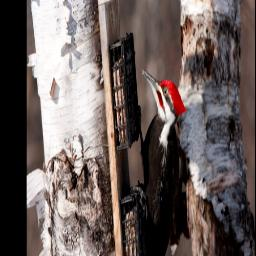Woodpecker: (132, 68, 189, 256)
